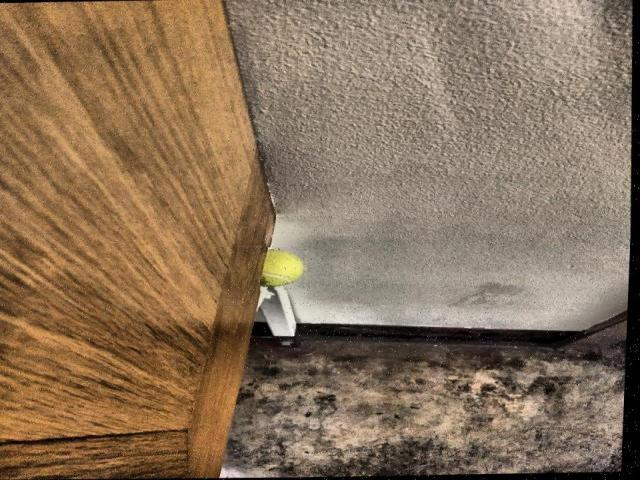tennis-ball: (262, 250, 304, 287)
